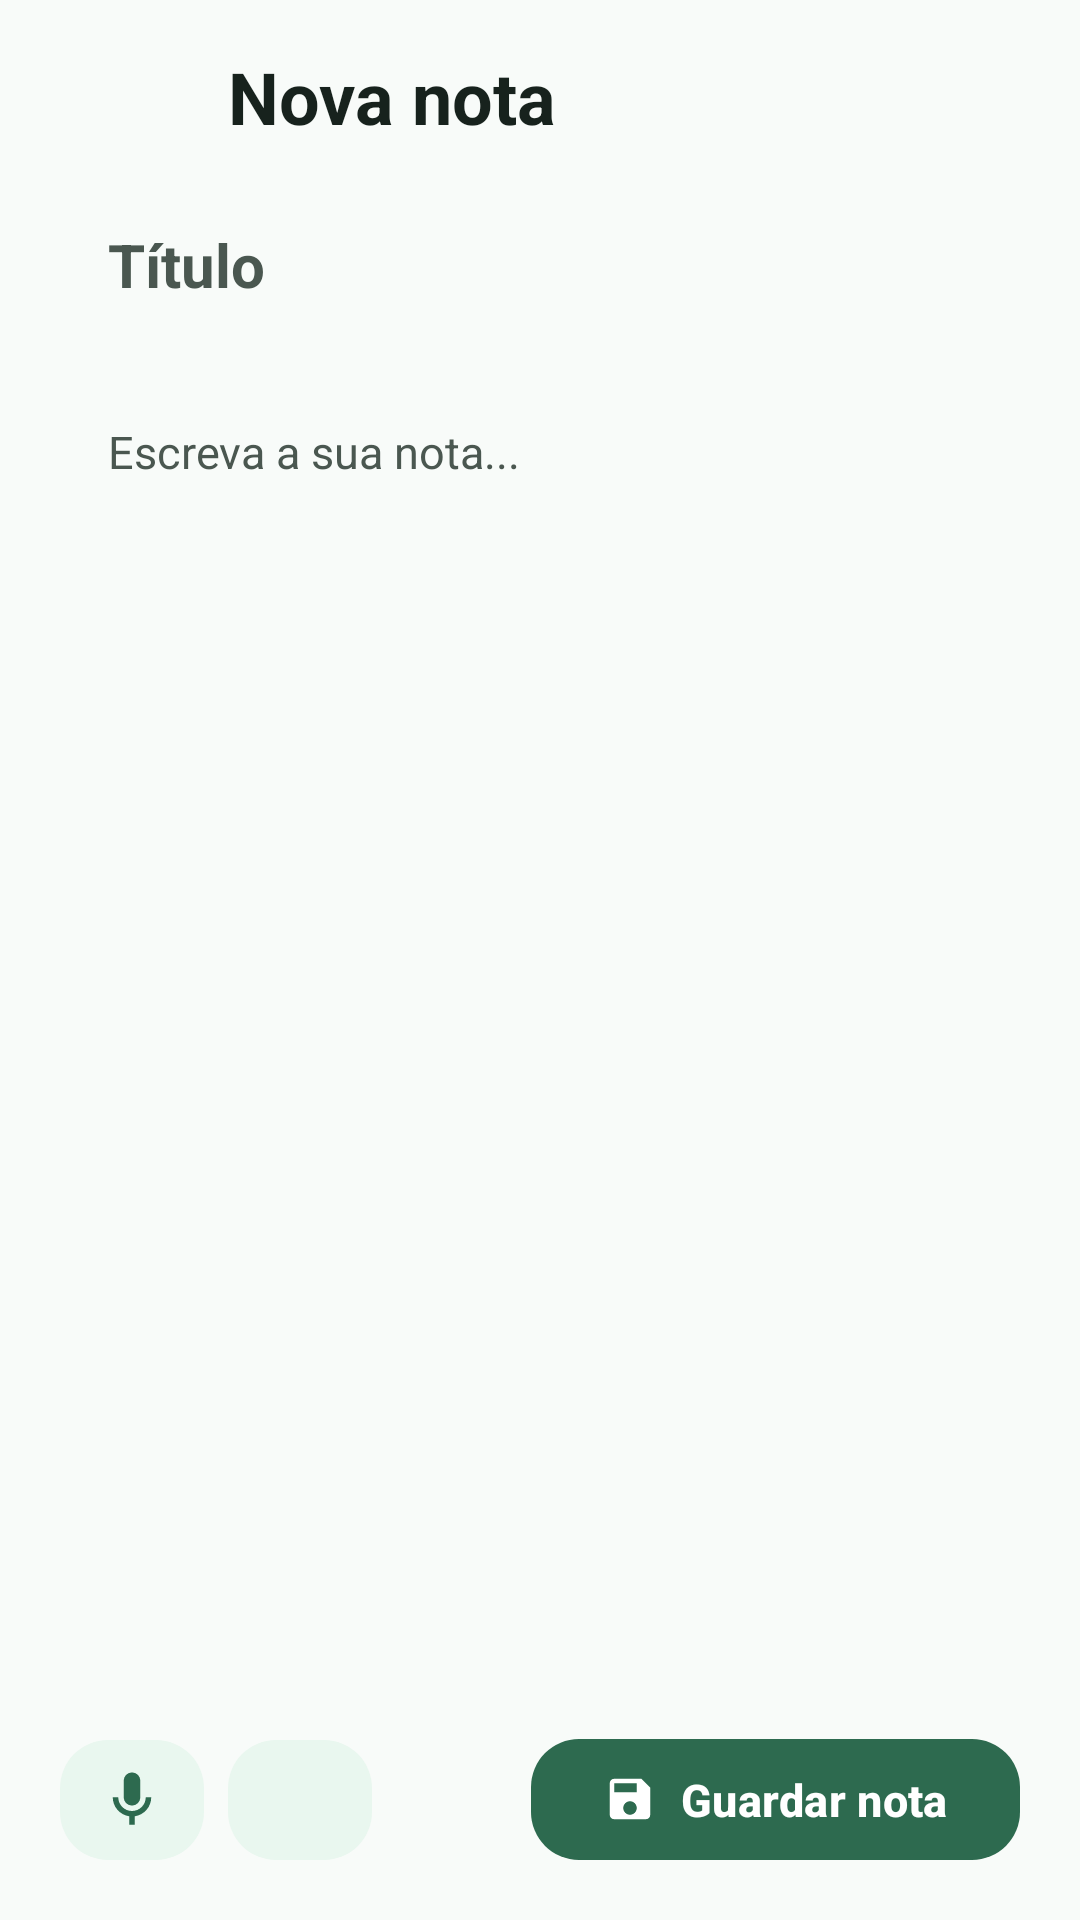

Named icons in this screenshot (1080×1920) and their bounding boxes, (x1, y1, x2, y2):
Ditar: (60, 1740, 204, 1860)
